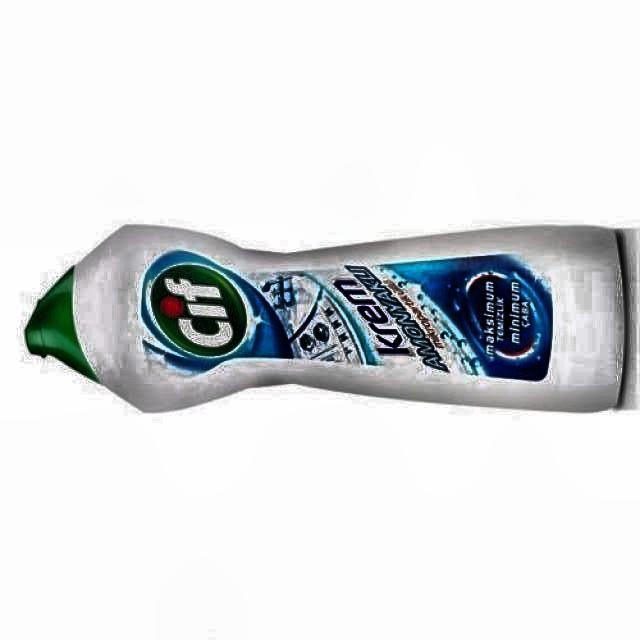plastic: (25, 226, 625, 411)
